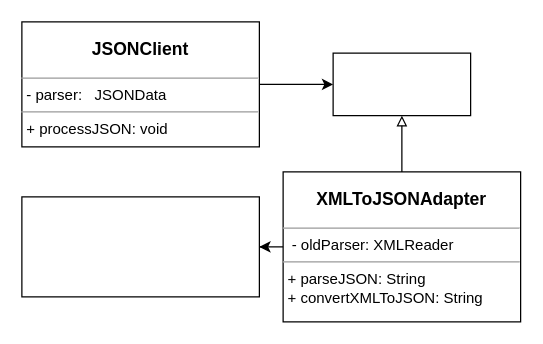
Image size: 543x344. Some labels were removed from this diagram. The centre of each missing label's shape, as x and y in pixels:
"readXML(adaptee) + readXML" goes at (x=140, y=246).
"«interface» JSONData" goes at (x=401, y=84).
